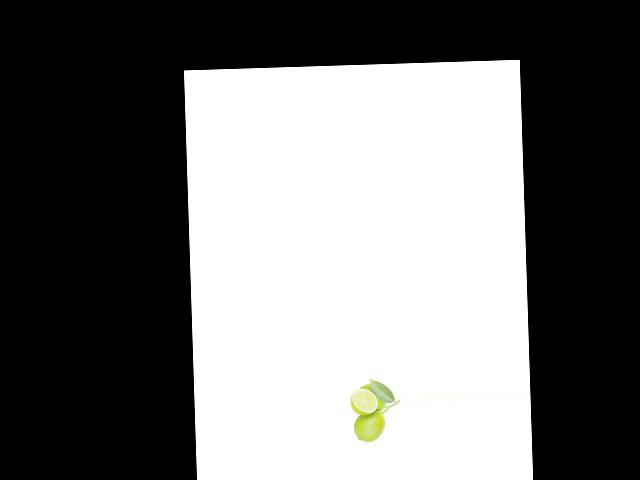lemon: (358, 381, 389, 410)
